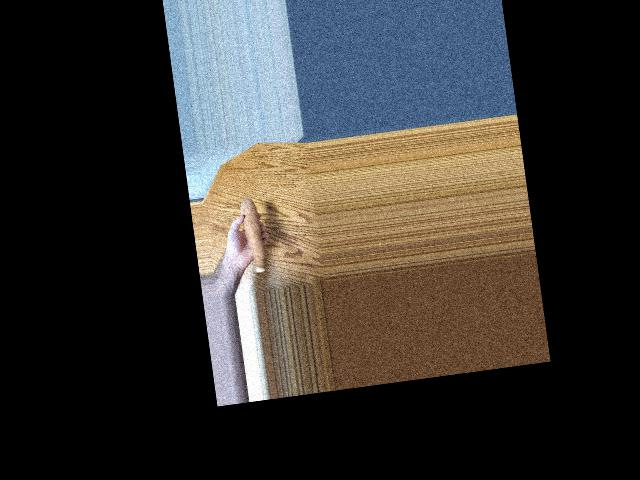sweet_potato: (242, 196, 271, 267)
